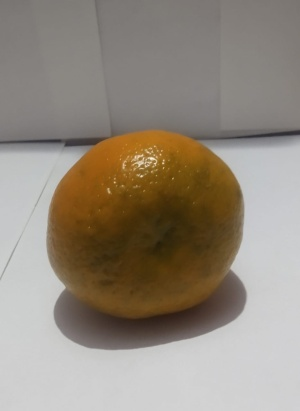BAD: (44, 129, 250, 324)
